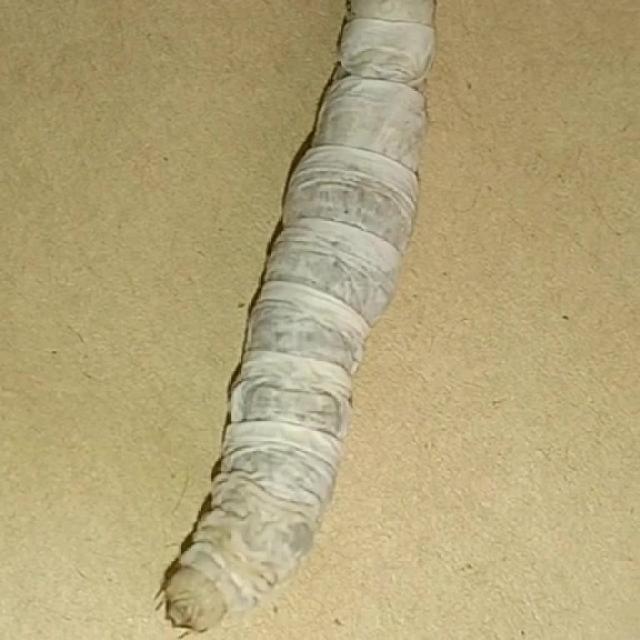Grasserie: (143, 0, 440, 633)
